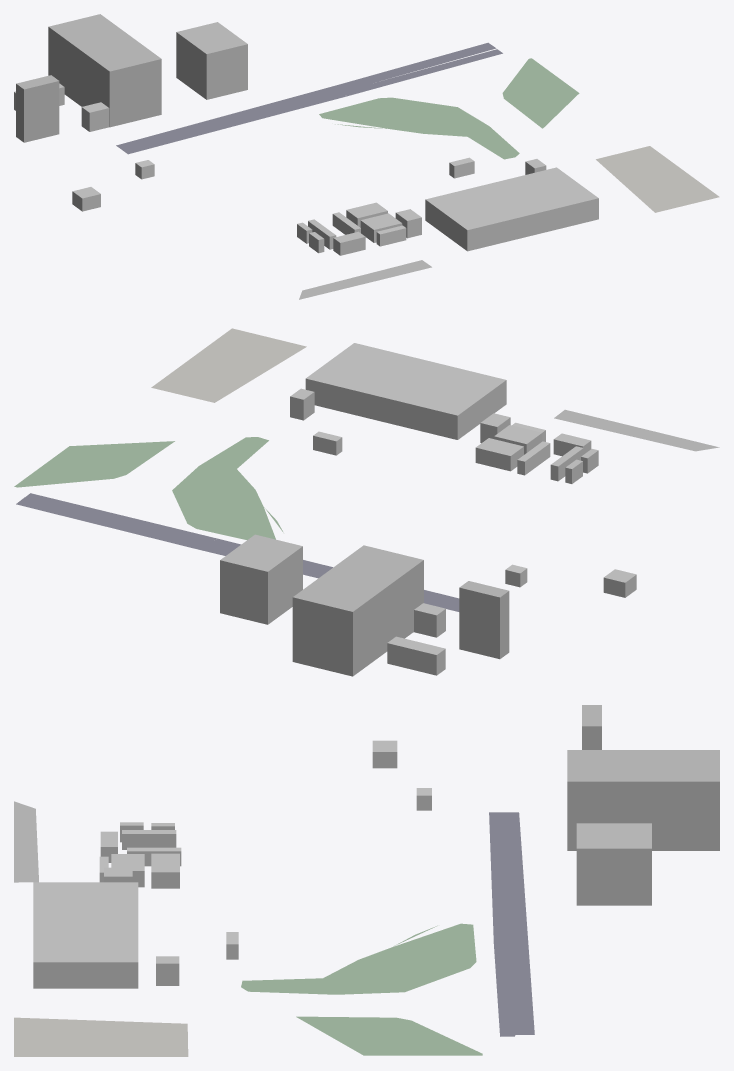
The model's file is 133_96_mid.glb.
3 renders of one model, top to bottom at view 1: azimuth 30°, elevation 25°; view 2: azimuth 150°, elevation 25°; view 3: azimuth 270°, elevation 25°, orthographic. The views are drawn at different scales.
Size of the model in its own units: 498 by 55.63 by 496.
